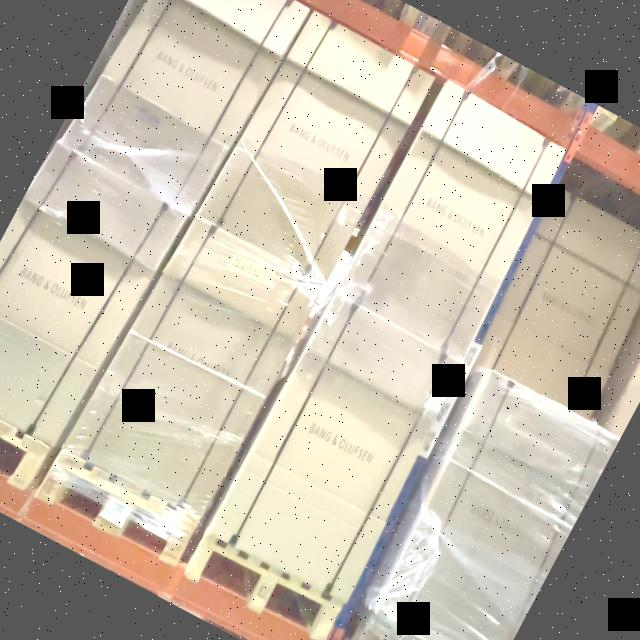box: (70, 223, 316, 517), (214, 298, 460, 592), (337, 84, 569, 353), (205, 14, 434, 280), (75, 0, 303, 209), (474, 199, 640, 422)
